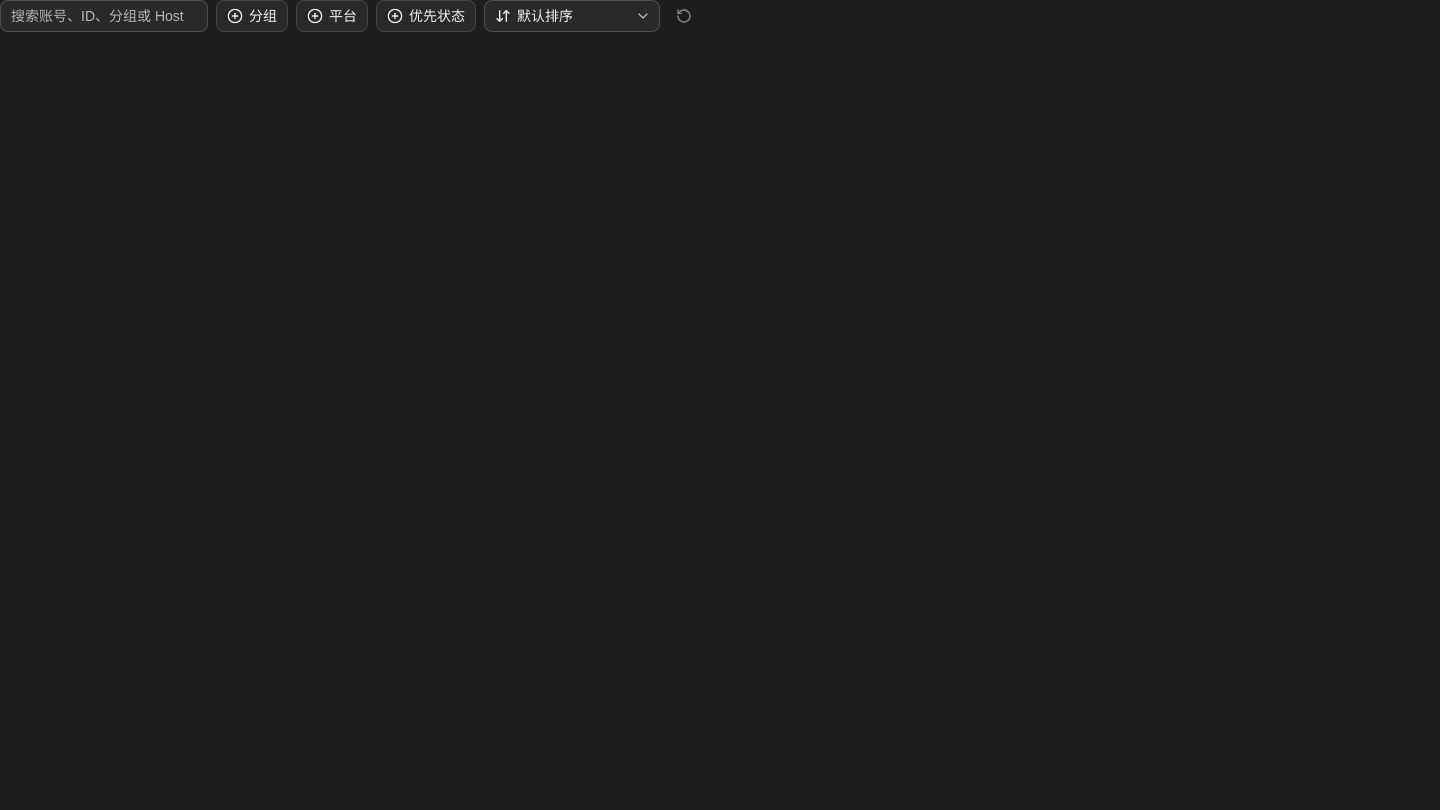
分组字典逆序时动画筛选按字典名称展示且不补入未登记分组
The image size is (1440, 810).
Click the button with aria-label "分组筛选" at (252, 16), box [216,0,288,32]
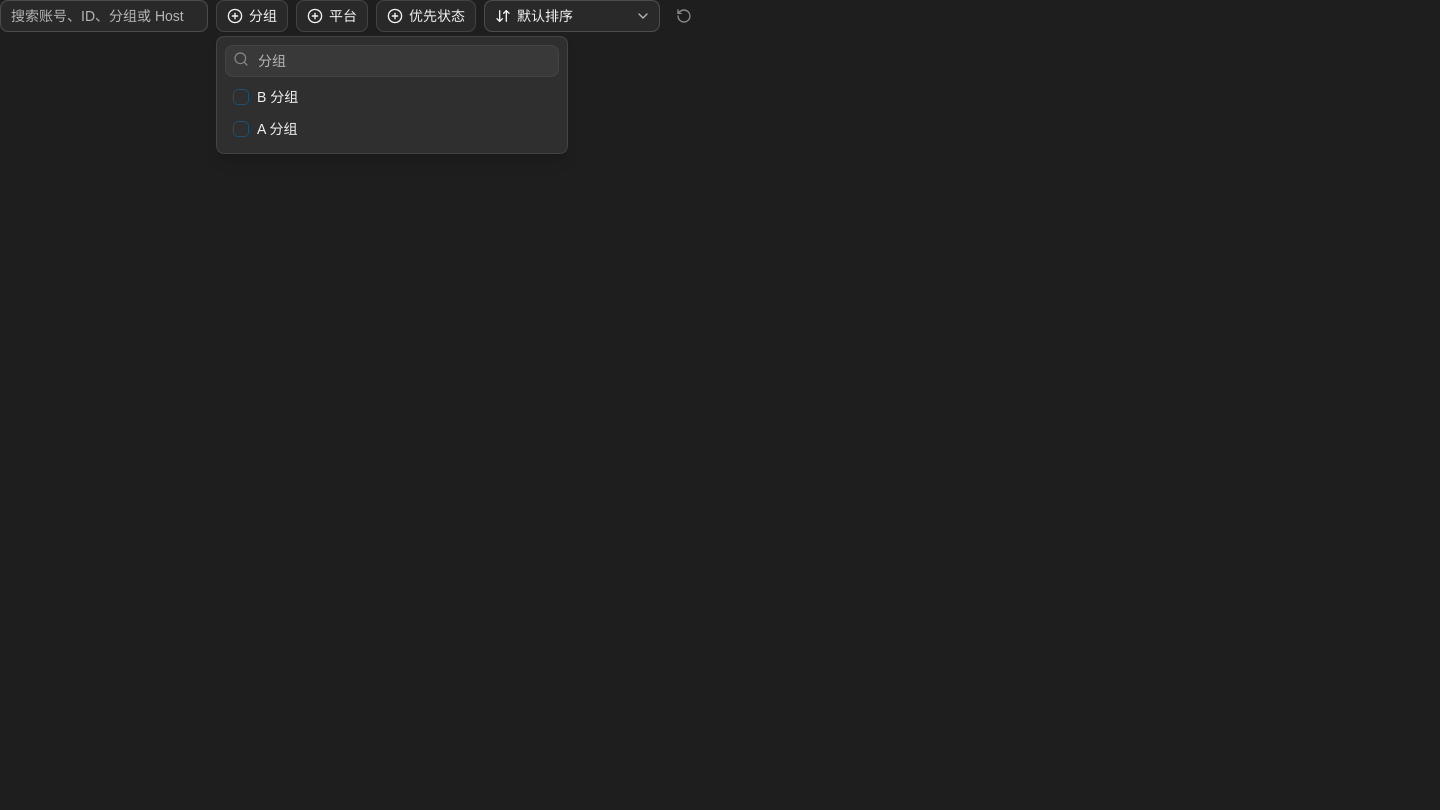
expect the options read "B 分组", "A 分组", in this order: met, box [225,81,559,113]; [225,113,559,145]
